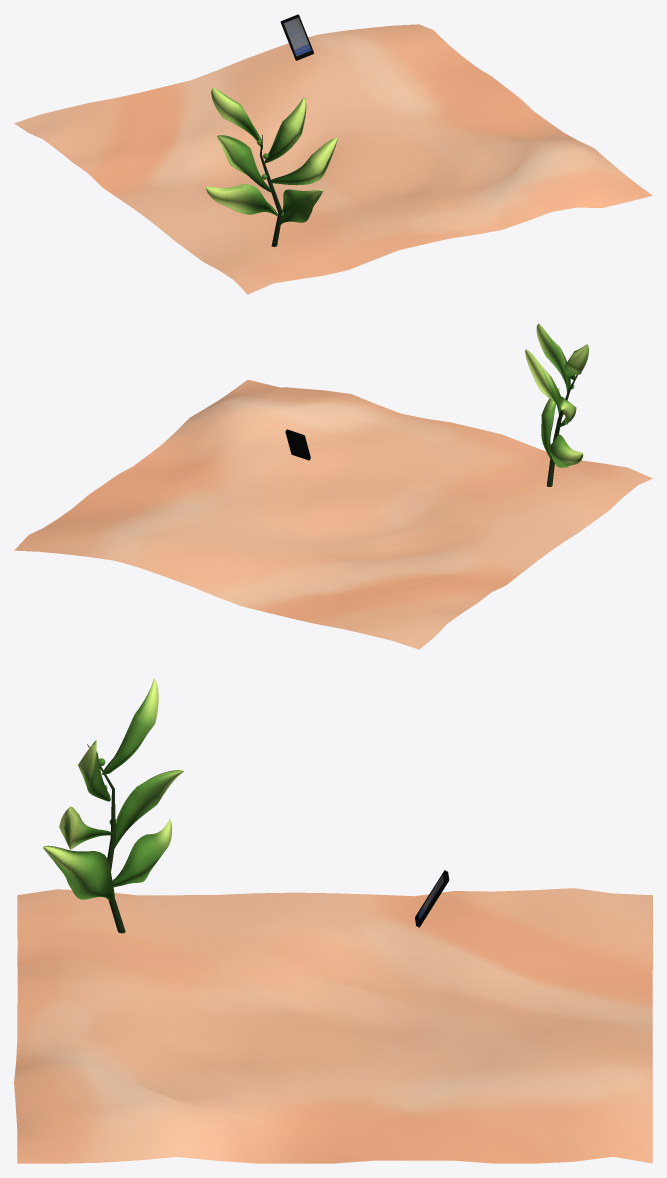
Rendered from Phone.gltf.
3 renders of one model, top to bottom at view 1: azimuth 30°, elevation 25°; view 2: azimuth 150°, elevation 25°; view 3: azimuth 270°, elevation 25°, orthographic. The views are drawn at different scales.
Parts seen in each view (by area): view 1: Plane, BezierCurve, Cube; view 2: Plane, BezierCurve, Cube; view 3: Plane, BezierCurve.
Part boxes in pixels (x1,y1,x2,y2): Plane: (14, 24, 652, 294); BezierCurve: (206, 87, 337, 246); Cube: (280, 14, 313, 60); Plane: (14, 379, 652, 649); BezierCurve: (525, 323, 588, 486); Cube: (285, 429, 310, 460); Plane: (14, 888, 652, 1163); BezierCurve: (43, 678, 183, 933).
Size of the model in its own units: 8.44 by 3.48 by 8.48.
3 materials, 3 textured.
